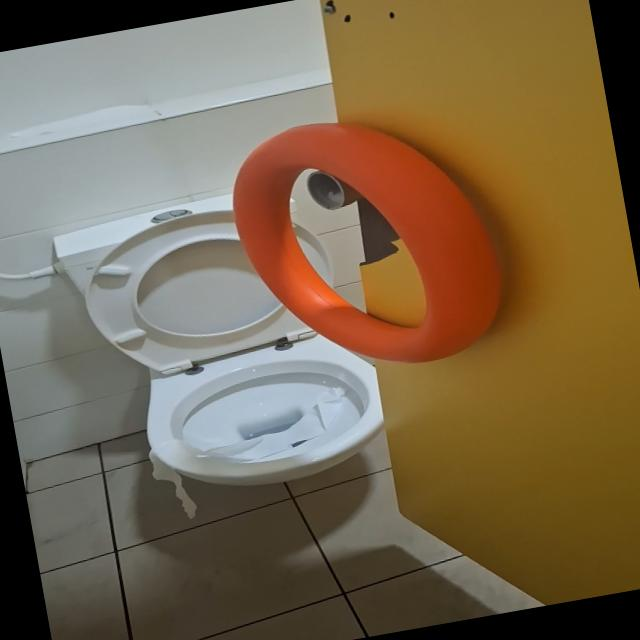note: (217, 92, 516, 392)
